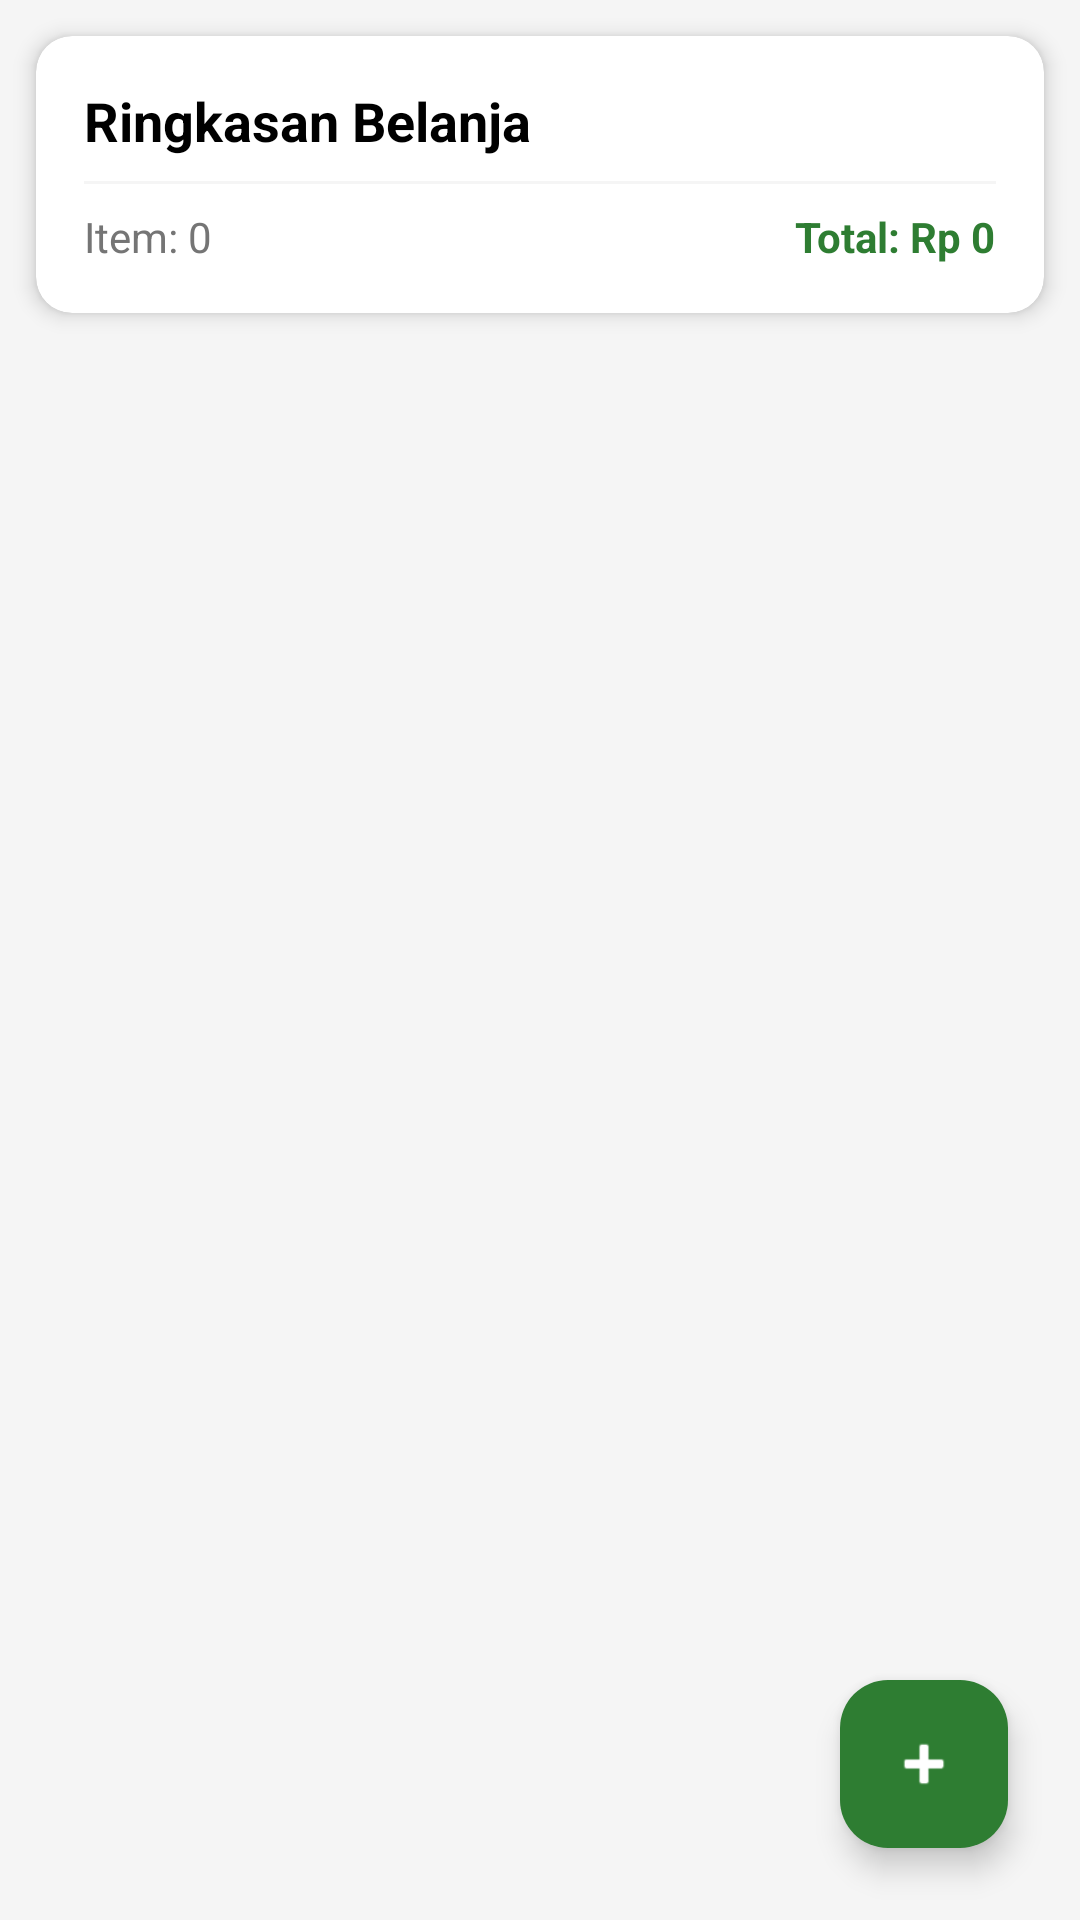

Icons on this 1080 x 1920 Android screen, each with its box as (x1, y1, x2, y2):
Tambah Item: (840, 1680, 1008, 1848)
